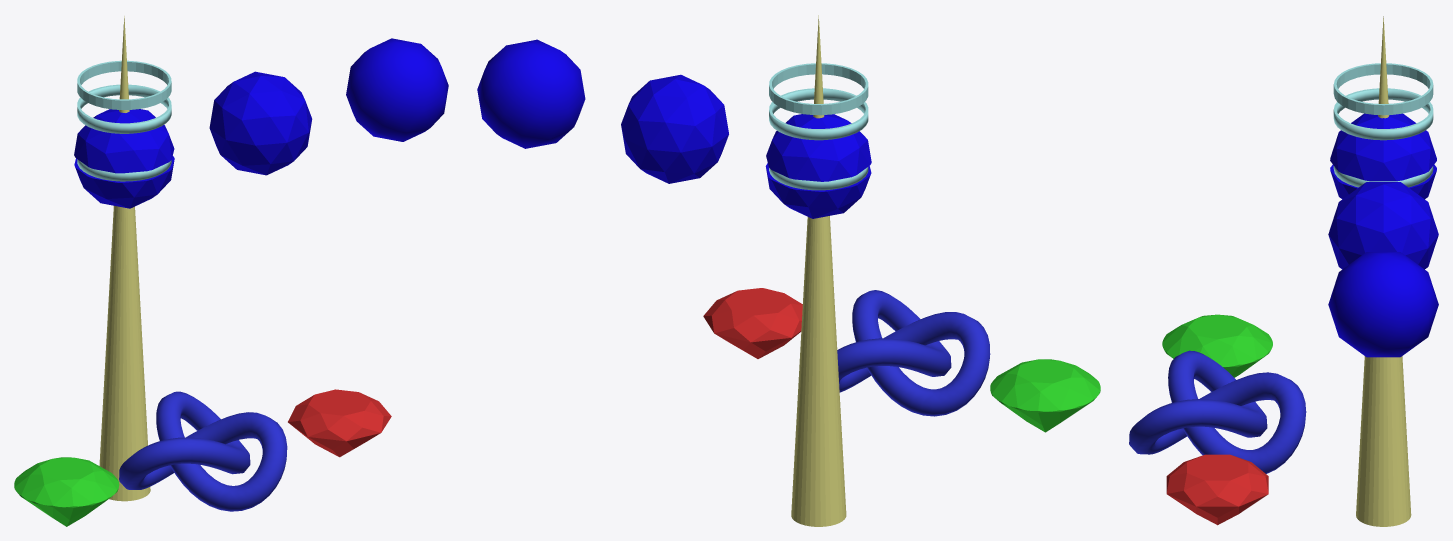
The picture shows the model from 3 angles, left to right: view 1: azimuth 30°, elevation 25°; view 2: azimuth 150°, elevation 25°; view 3: azimuth 270°, elevation 25°; orthographic projection. The views are drawn at different scales.
Visible parts, largest first — view 1: Torus Knot, Cone, Dx, Dx.001, Icosphere, dobj, Gem, Cylinder.002, Cylinder.001, Cylinder; view 2: Cone, Torus Knot, Dx, Dx.001, Icosphere, dobj, Gem, Cylinder.002, Cylinder.001, Cylinder; view 3: Torus Knot, Dx.001, Cone, Dx, Icosphere, Gem, dobj, Cylinder.002, Cylinder.001, Cylinder.
Part boxes in pixels (left/top/right/bottom): Torus Knot: left=119, top=391, right=287, bottom=511; Cone: left=99, top=16, right=150, bottom=501; Dx: left=209, top=71, right=312, bottom=175; Dx.001: left=346, top=38, right=448, bottom=141; Icosphere: left=74, top=109, right=174, bottom=208; dobj: left=14, top=457, right=119, bottom=526; Gem: left=288, top=389, right=391, bottom=457; Cylinder.002: left=77, top=60, right=171, bottom=109; Cylinder.001: left=77, top=84, right=171, bottom=133; Cylinder: left=77, top=159, right=171, bottom=181; Cone: left=791, top=15, right=846, bottom=526; Torus Knot: left=837, top=290, right=990, bottom=416; Dx: left=621, top=74, right=728, bottom=183; Dx.001: left=477, top=39, right=585, bottom=148; Icosphere: left=765, top=114, right=871, bottom=218; dobj: left=990, top=359, right=1100, bottom=432; Gem: left=703, top=288, right=802, bottom=358; Cylinder.002: left=769, top=63, right=868, bottom=115; Cylinder.001: left=769, top=88, right=868, bottom=140; Cylinder: left=769, top=167, right=868, bottom=190; Torus Knot: left=1129, top=350, right=1306, bottom=473; Dx.001: left=1328, top=252, right=1438, bottom=357; Cone: left=1356, top=16, right=1411, bottom=526; Dx: left=1328, top=182, right=1438, bottom=269; Icosphere: left=1330, top=113, right=1436, bottom=199; Gem: left=1166, top=454, right=1268, bottom=525; dobj: left=1162, top=314, right=1272, bottom=377; Cylinder.002: left=1333, top=63, right=1433, bottom=115; Cylinder.001: left=1333, top=88, right=1433, bottom=140; Cylinder: left=1333, top=166, right=1433, bottom=187.
Size of what is drawn, in the model's own units: 10.95 by 10 by 5.6.
